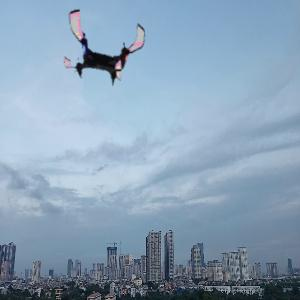drone: (62, 4, 150, 92)
